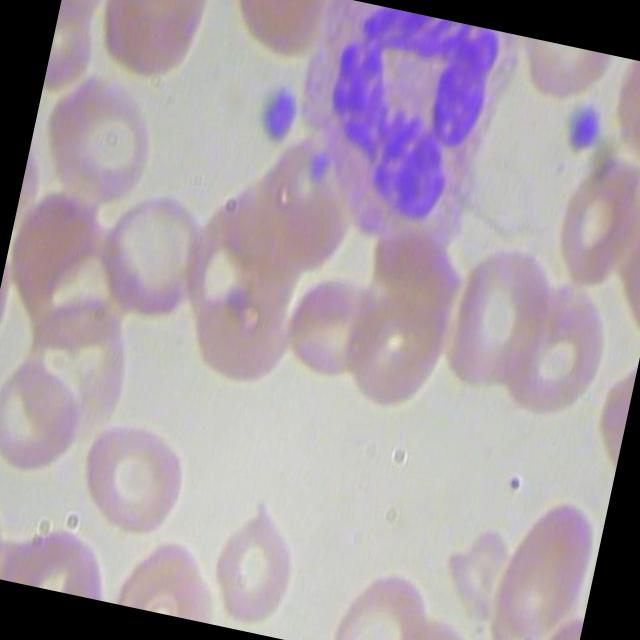Platelets: (556, 94, 612, 167), (253, 79, 303, 142)
RBC: (484, 267, 632, 429), (28, 57, 175, 219), (80, 173, 227, 335), (422, 236, 568, 398), (471, 483, 606, 640), (67, 413, 198, 543), (200, 486, 305, 632), (544, 137, 640, 290), (275, 264, 392, 389), (78, 0, 223, 93), (0, 354, 94, 484), (319, 551, 437, 640)
WBC: (270, 0, 520, 259)
